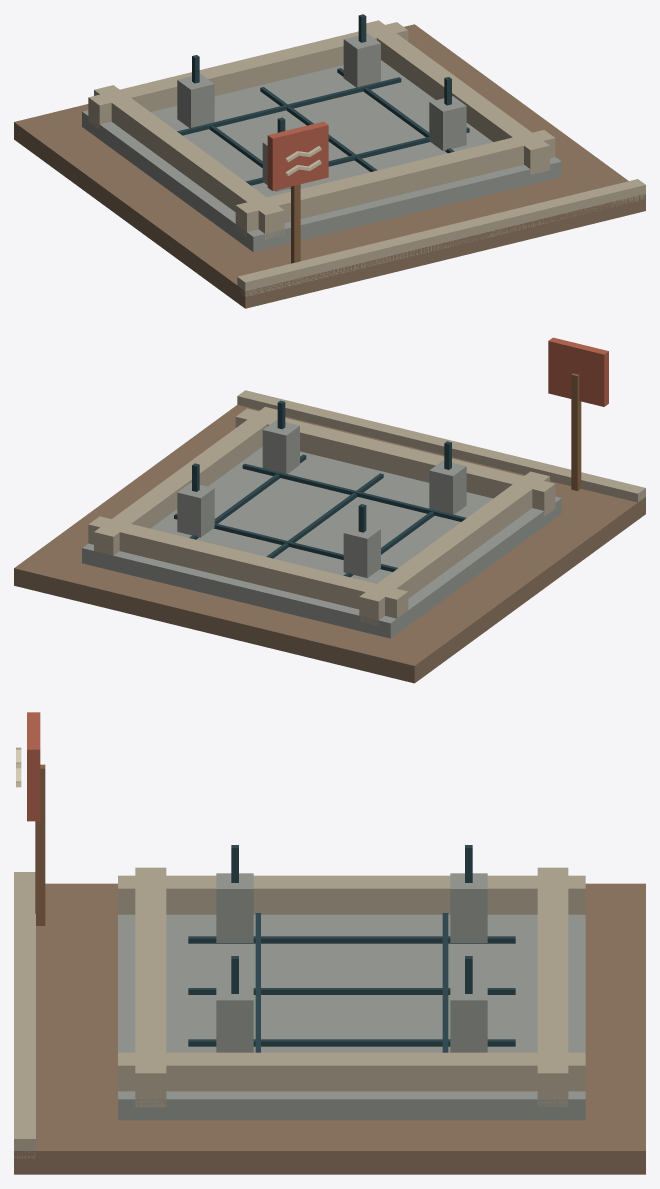
Rendered from swimming-pool-foundation.glb.
3 renders of one model, top to bottom at view 1: azimuth 30°, elevation 25°; view 2: azimuth 150°, elevation 25°; view 3: azimuth 270°, elevation 25°, orthographic. The views are drawn at different scales.
Visible parts, largest first — view 1: swimming-pool; view 2: swimming-pool; view 3: swimming-pool.
Part boxes in pixels (bbox=[...]): swimming-pool: bbox=[14, 14, 645, 308]; swimming-pool: bbox=[14, 337, 645, 683]; swimming-pool: bbox=[14, 712, 645, 1174].
Bounding box in the file's own units: 2.88 × 1.09 × 2.88.
